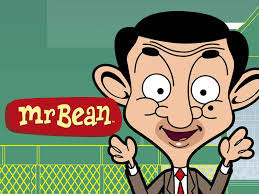mrbean: (90, 10, 259, 194)
